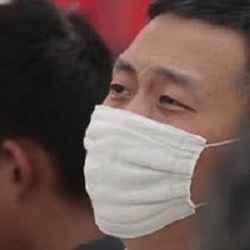mask: (72, 102, 218, 243)
